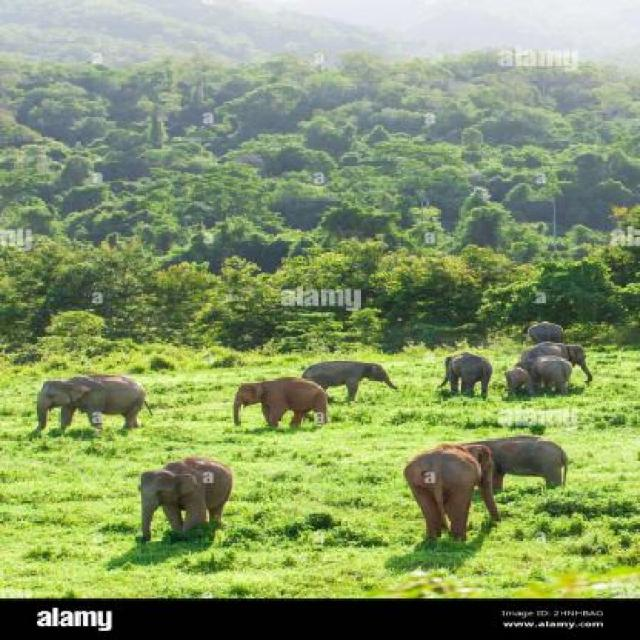elephant: (453, 418, 590, 527), (122, 458, 270, 545), (23, 364, 160, 436), (385, 441, 478, 547), (305, 342, 406, 410), (218, 378, 333, 434), (523, 336, 608, 382), (511, 311, 575, 352), (442, 348, 486, 398), (545, 354, 593, 394), (503, 358, 540, 402)
